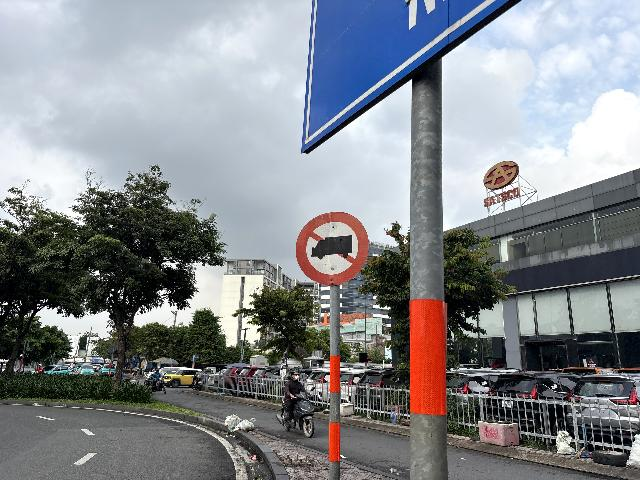cam-xe-tai: (295, 212, 369, 286)
